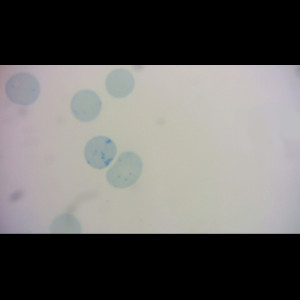aggregate reticulocyte: (83, 134, 119, 171)
erythrocyte: (104, 68, 135, 99)
punctate reticulocyte: (105, 150, 144, 189), (5, 70, 42, 106), (69, 88, 103, 122)
